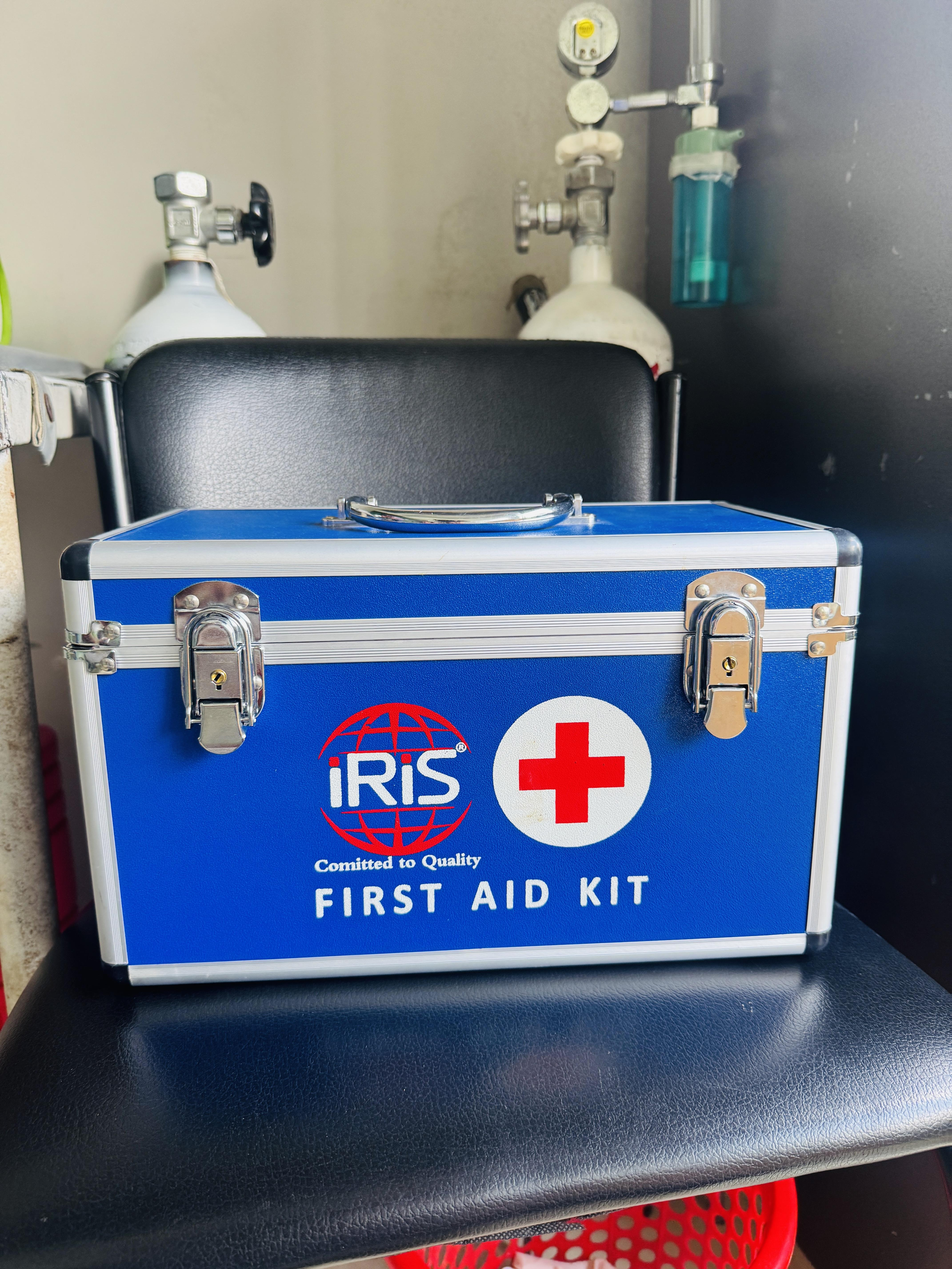FirstAidBox: (42, 473, 884, 999)
